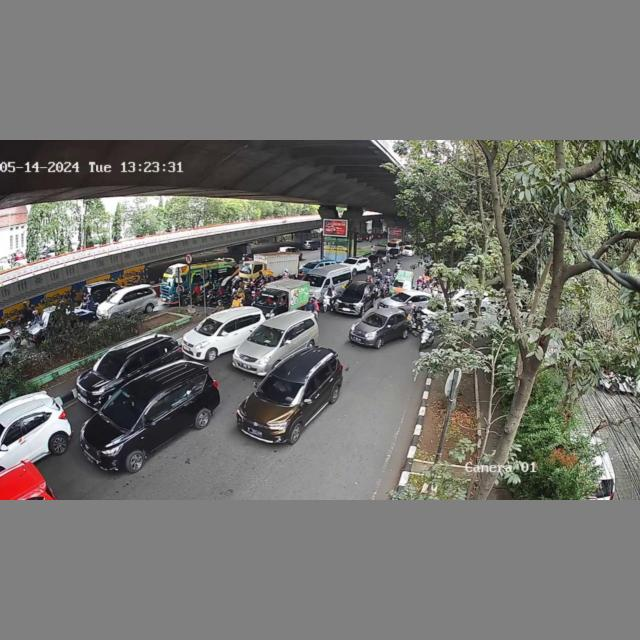windshield: (254, 373, 310, 410), (100, 389, 148, 426), (96, 352, 126, 380), (249, 324, 284, 345), (256, 291, 282, 308), (196, 318, 223, 334), (363, 309, 387, 327)
